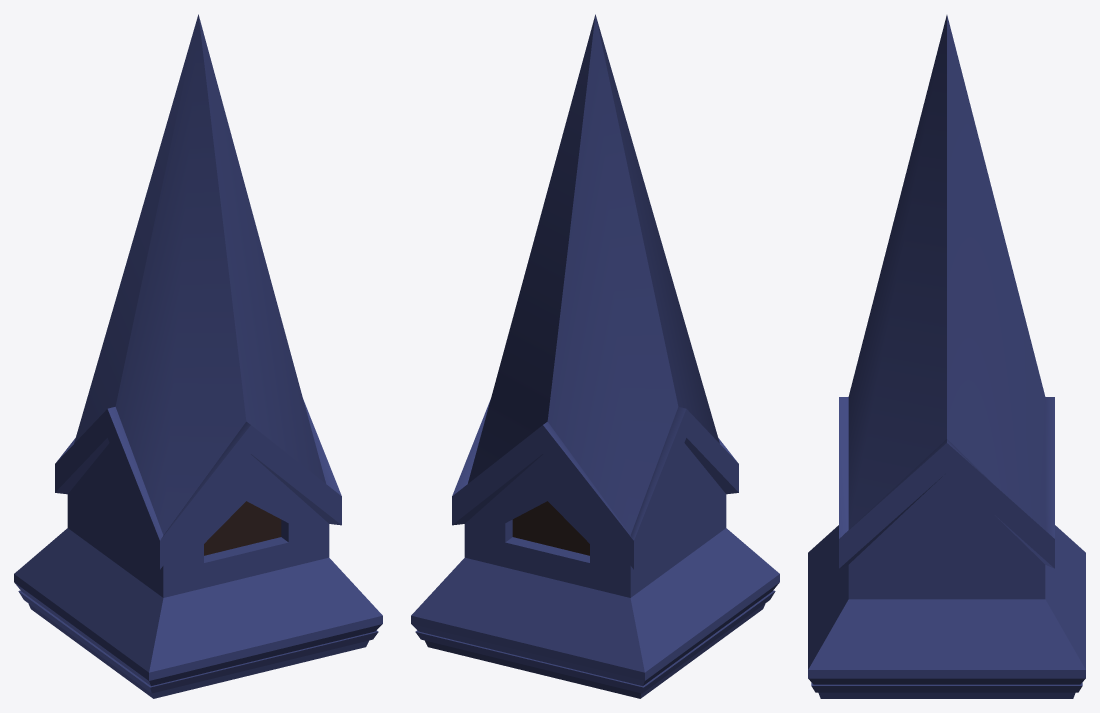
Rendered from square_top_3.glb.
The picture shows the model from 3 angles, left to right: view 1: azimuth 30°, elevation 25°; view 2: azimuth 150°, elevation 25°; view 3: azimuth 270°, elevation 25°; orthographic projection. The views are drawn at different scales.
Visible parts, largest first — view 1: square_top_3; view 2: square_top_3; view 3: square_top_3.
Part boxes in pixels (<box>): square_top_3: <box>14,14,382,698</box>; square_top_3: <box>411,14,779,698</box>; square_top_3: <box>808,15,1085,698</box>.
Bounding box in the file's own units: 5.5 × 13.8 × 5.5.
